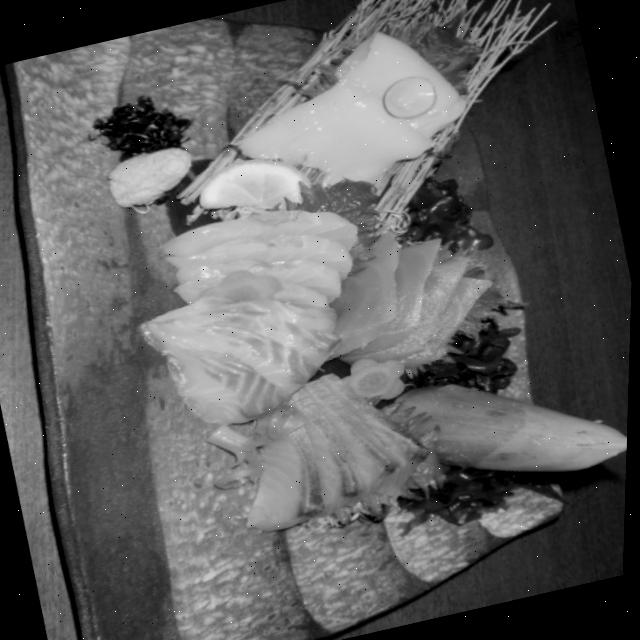刺身生食: (12, 0, 640, 622)
